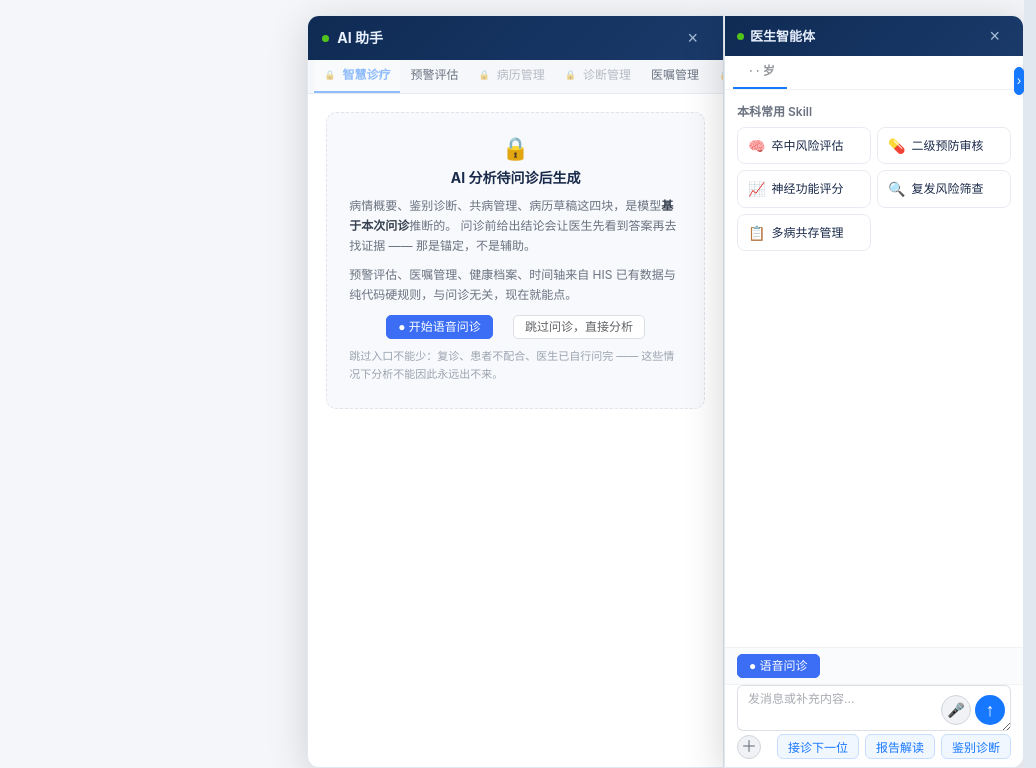
Test case: ＋ 菜单 › 默认收起，点 ＋ 才展开
This screenshot has width=1036, height=768.
Click the button with class "tb-plus-btn" at (749, 746), box [737,734,761,758]
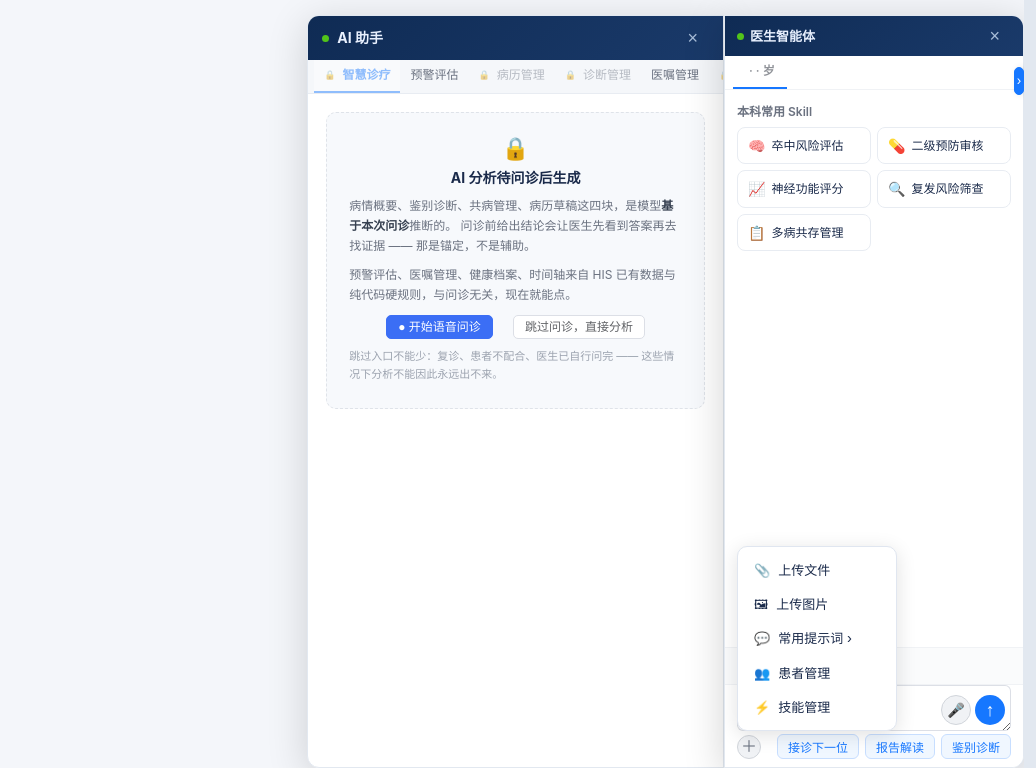
Now the element showing "📎 上传文件 🖼 上传图片 💬 常用提示词 › 👥 患者管理 ⚡ 技能管理" is shown, box [737,546,897,731]
